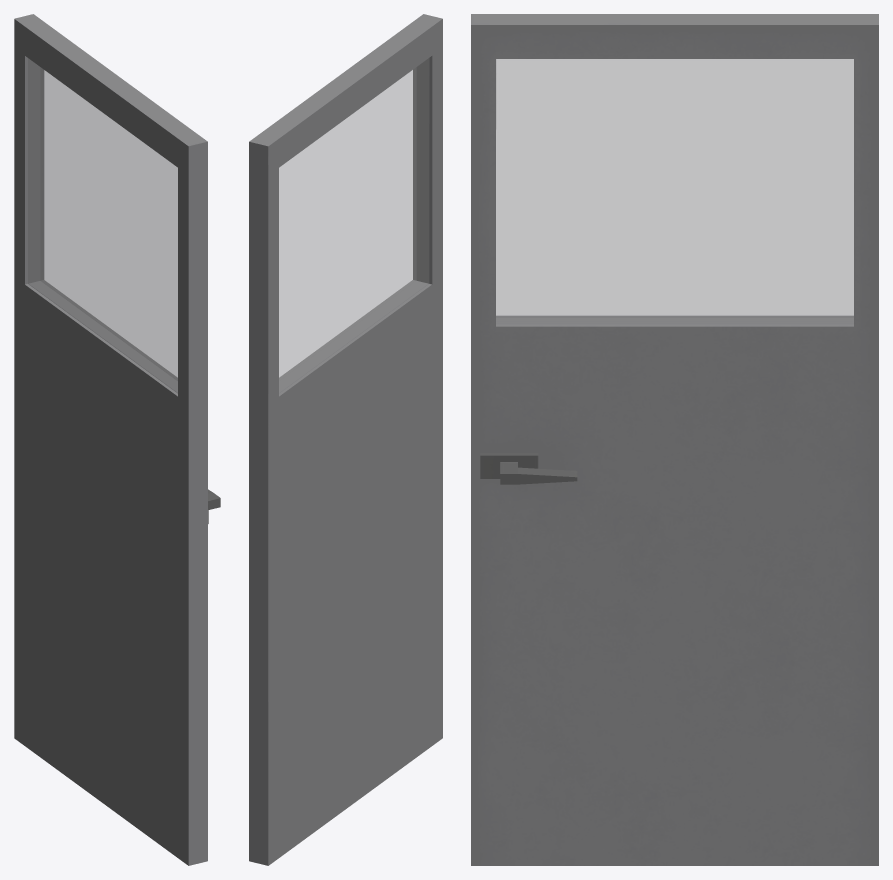
Rendered from door.glb.
3 renders of one model, left to right at view 1: azimuth 30°, elevation 25°; view 2: azimuth 150°, elevation 25°; view 3: azimuth 270°, elevation 25°, orthographic. The views are drawn at different scales.
Parts seen in each view (by area): view 1: Door-material; view 2: Door-material; view 3: Door-material.
Boxes of the visible parts, x1,y1,x2,y2 form: Door-material: (14, 14, 220, 865); Door-material: (249, 14, 442, 865); Door-material: (471, 14, 878, 865).
Bounding box in the file's own units: 0.0237 × 0.365 × 0.1604.
1 material, 1 textured.
